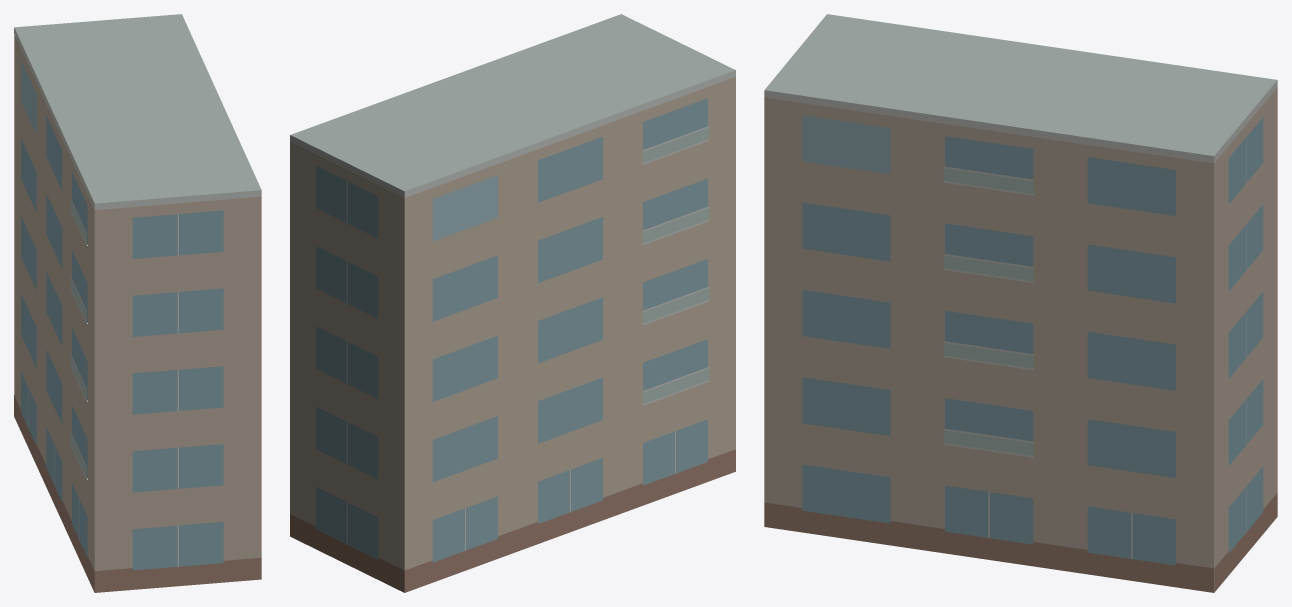
The model's file is survey-upis-32868956.glb.
3 views of the same model, side by side, from view 1: azimuth 30°, elevation 25°; view 2: azimuth 150°, elevation 25°; view 3: azimuth 270°, elevation 25° (orthographic). The views are drawn at different scales.
Visible parts, largest first — view 1: survey-upis-32868956.tmp; view 2: survey-upis-32868956.tmp; view 3: survey-upis-32868956.tmp.
Boxes of the visible parts, box(x1,y1,x2,y2) form: survey-upis-32868956.tmp: box(14, 14, 261, 592); survey-upis-32868956.tmp: box(290, 14, 735, 592); survey-upis-32868956.tmp: box(764, 14, 1277, 592).
Size of the model in its own units: 10.24 by 14.65 by 15.62.
